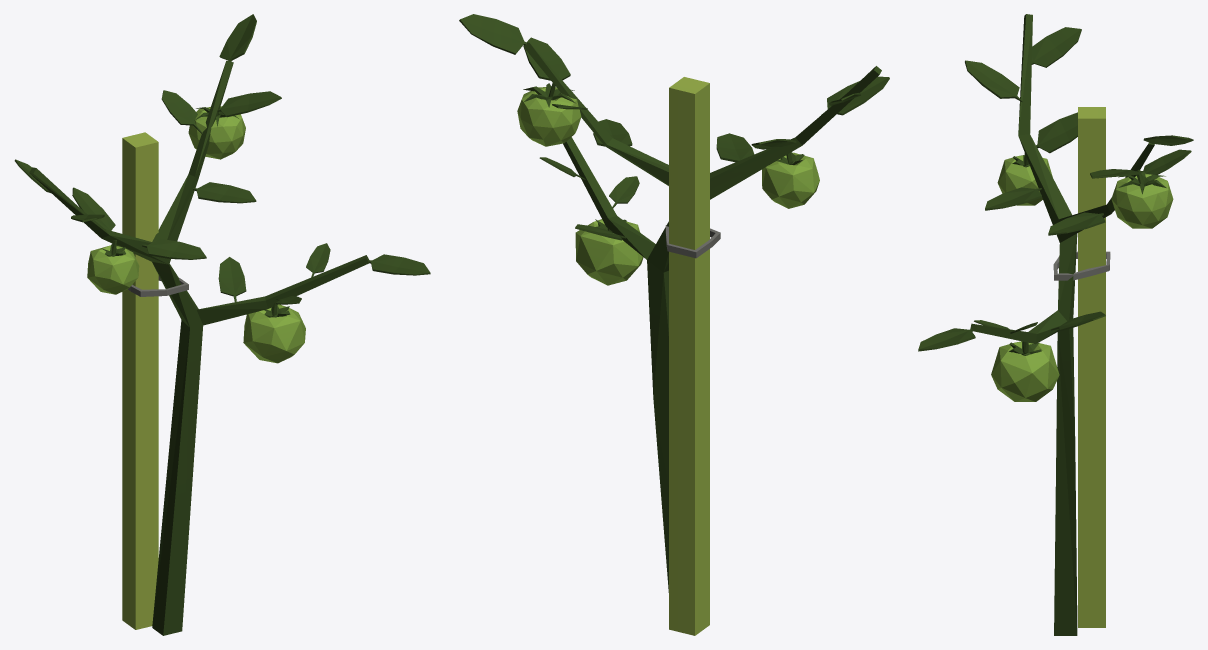
Rendered from TomatoPlant_01.fbx.
3 renders of one model, left to right at view 1: azimuth 30°, elevation 25°; view 2: azimuth 150°, elevation 25°; view 3: azimuth 270°, elevation 25°, orthographic. The views are drawn at different scales.
Visible parts, largest first — view 1: TomatoPlant_01; view 2: TomatoPlant_01; view 3: TomatoPlant_01.
Boxes of the visible parts, bbox=[...] form: TomatoPlant_01: bbox=[14, 14, 430, 635]; TomatoPlant_01: bbox=[459, 14, 889, 635]; TomatoPlant_01: bbox=[918, 14, 1193, 635].
Bounding box in the file's own units: 0.7178 × 1.05 × 0.4632.
